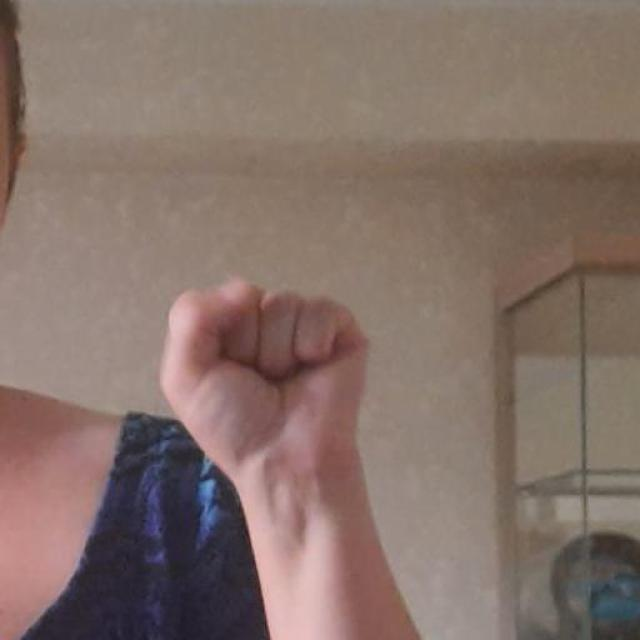hand: (158, 275, 372, 544)
